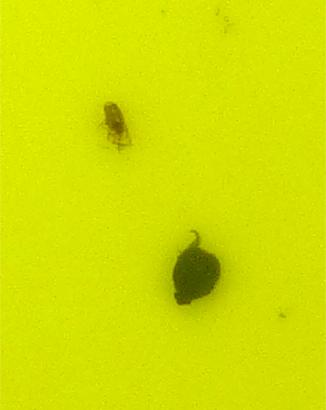Coleoptera: (167, 228, 226, 310)
Hemiptera: (100, 100, 131, 150)
